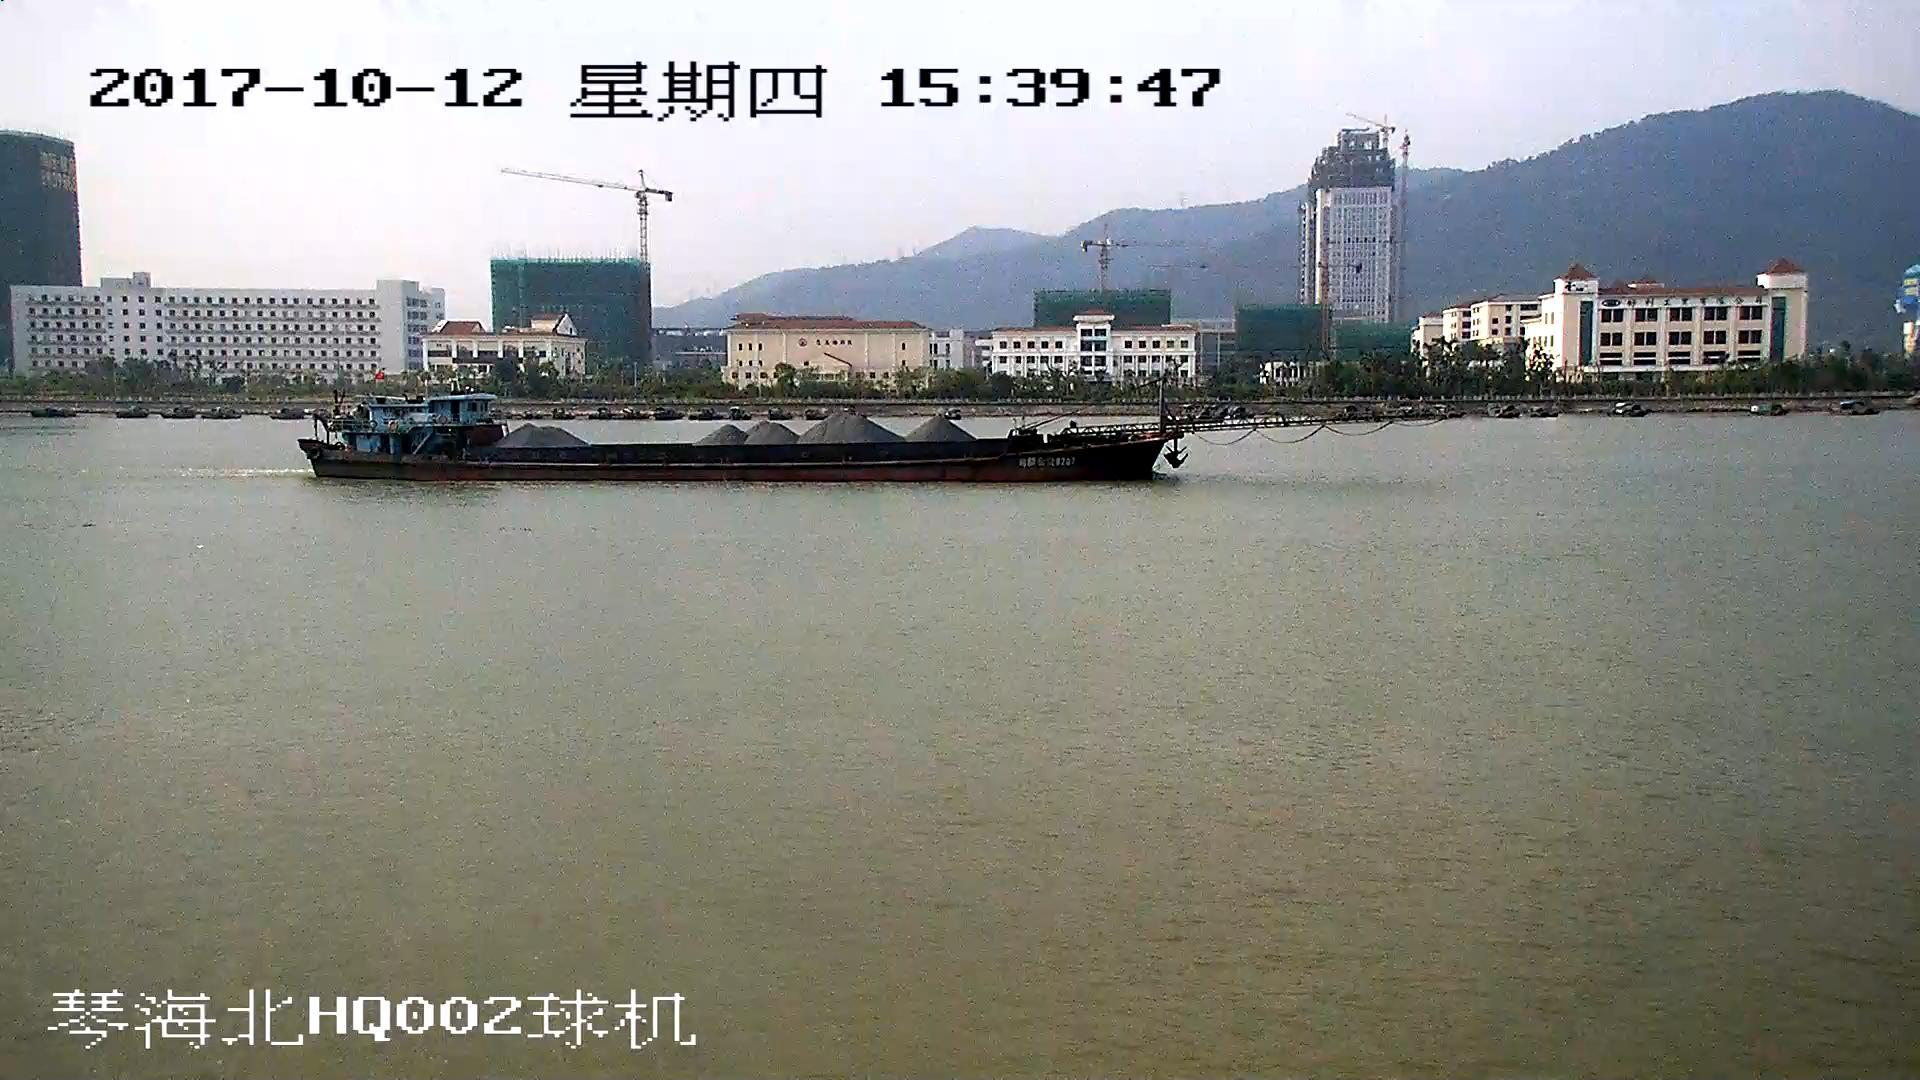Ship: (306, 377, 1393, 487)
